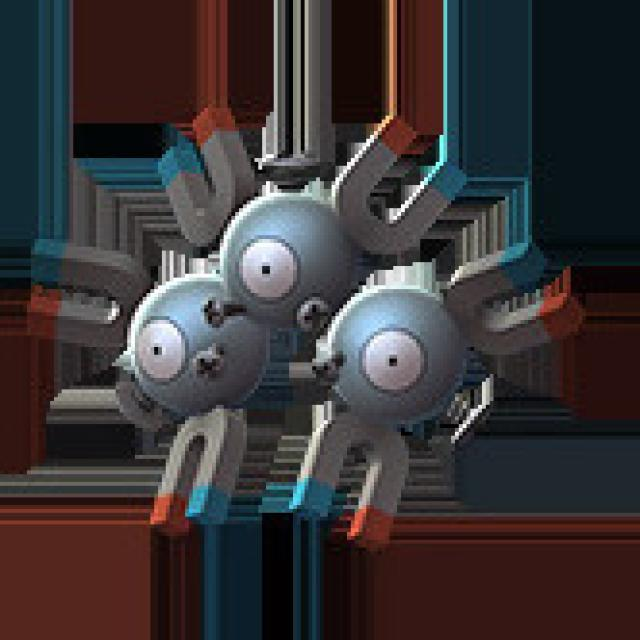Magneton: (110, 134, 519, 505)
